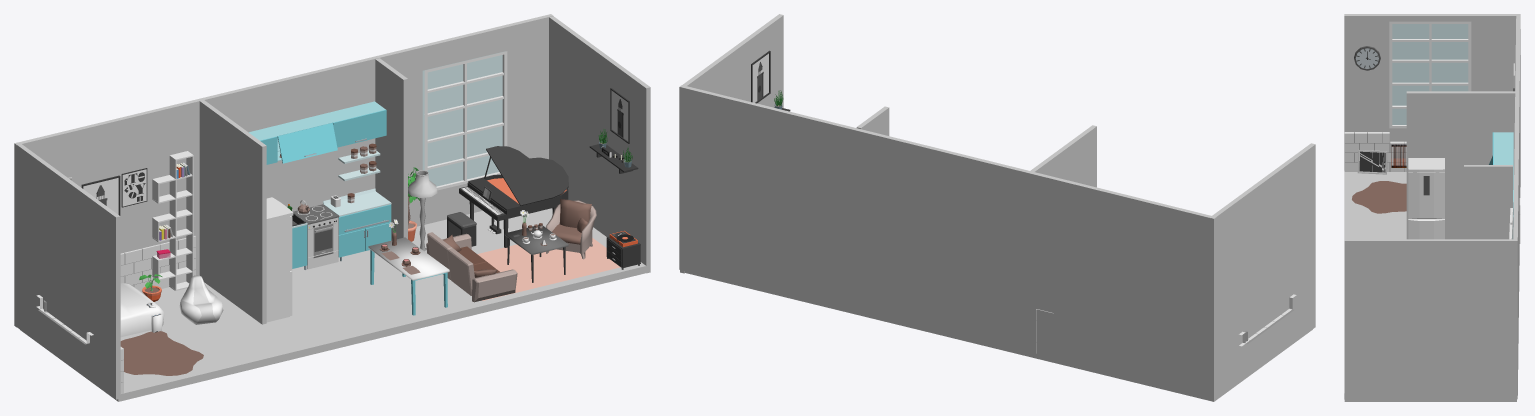
The picture shows the model from 3 angles, left to right: view 1: azimuth 30°, elevation 25°; view 2: azimuth 150°, elevation 25°; view 3: azimuth 270°, elevation 25°; orthographic projection. The views are drawn at different scales.
Visible parts, largest first — view 1: Meubles, MurCote, MurFond, Sol; view 2: MurFond, MurCote, Meubles, Sol; view 3: MurCote, Meubles, Sol, MurFond.
Part boxes in pixels (<box>): Meubles: <box>36,51,640,393</box>; MurCote: <box>15,16,650,399</box>; MurFond: <box>14,14,553,327</box>; Sol: <box>20,208,646,401</box>; MurFond: <box>679,85,1216,401</box>; MurCote: <box>680,14,1315,399</box>; Meubles: <box>751,50,1296,353</box>; Sol: <box>684,271,1312,401</box>; MurCote: <box>1344,14,1520,401</box>; Meubles: <box>1344,21,1520,243</box>; Sol: <box>1344,171,1406,399</box>; MurFond: <box>1513,16,1520,399</box>.
Size of the model in its own units: 12.66 by 4.16 by 4.12.
4 materials, 4 textured.
